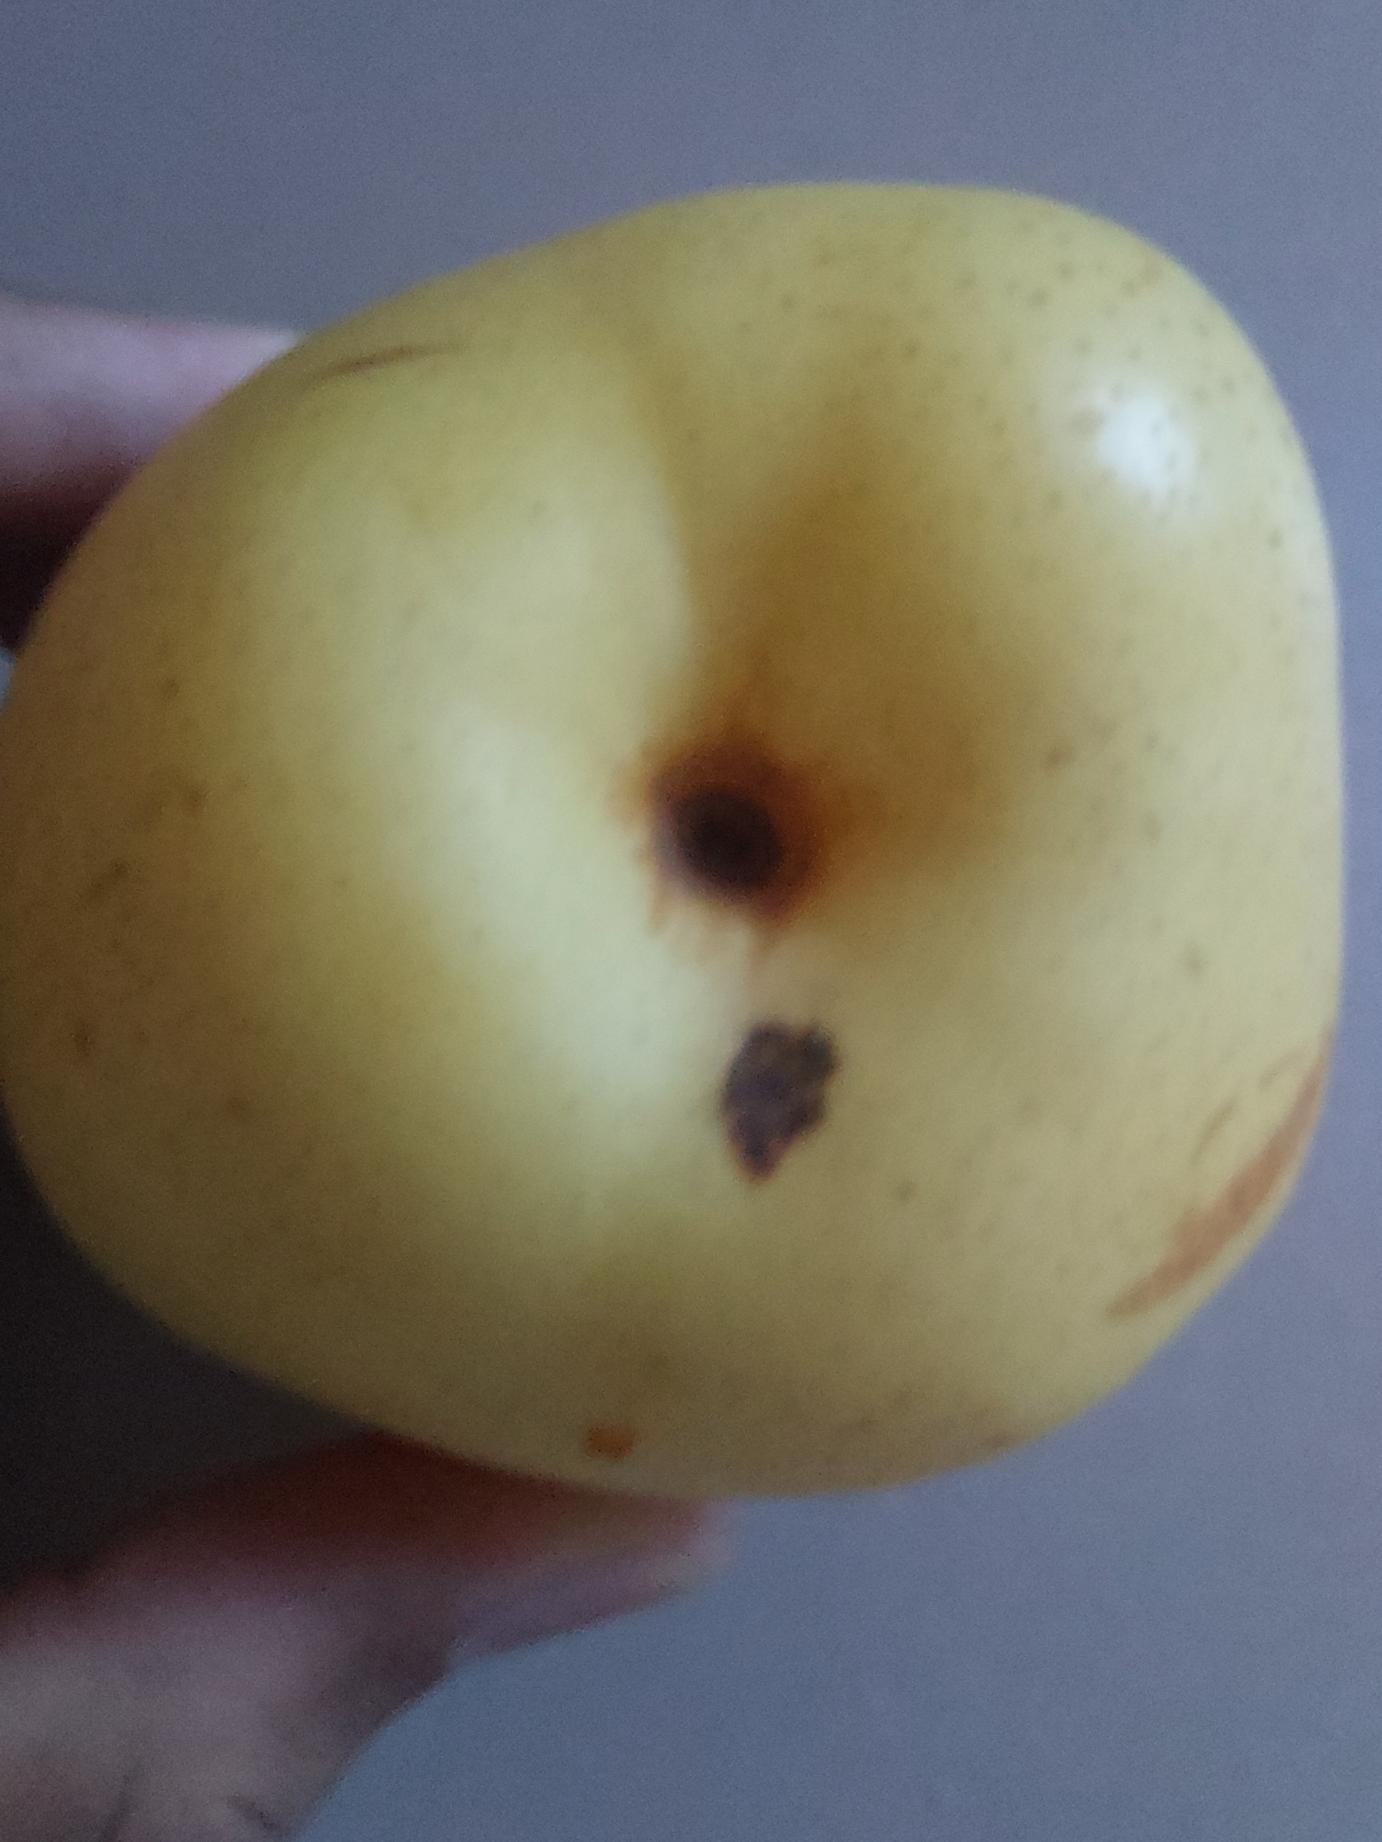Good Pear: (0, 191, 1351, 1500)
